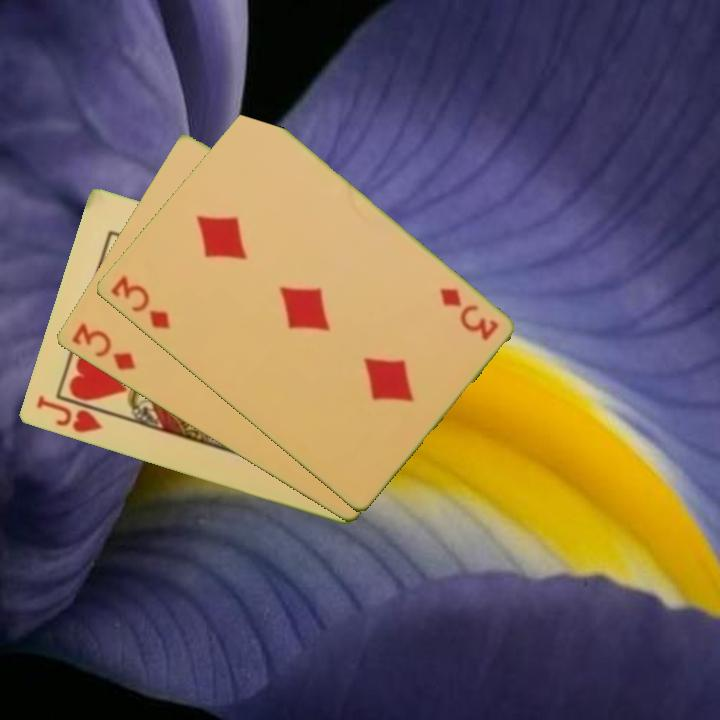3d: (106, 272, 173, 333), (435, 284, 502, 344), (67, 319, 139, 374)
Jh: (32, 392, 104, 436)
